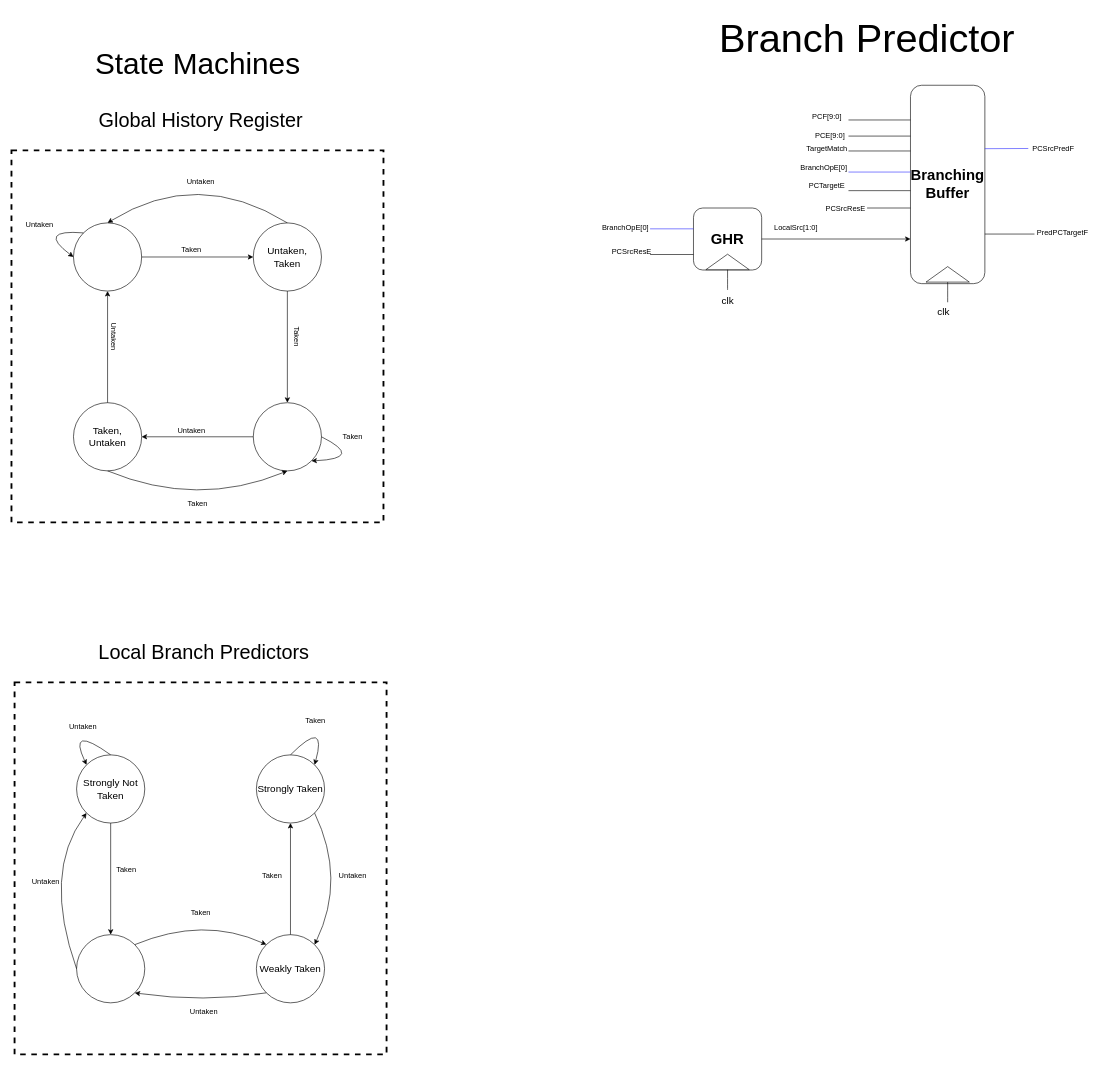
Some shapes in this 1107 by 1066 pixel diagram are drawn without their labels. The box of each missing label's shape, as (x1, y1, x2, y2) in pixels:
Taken, Taken: (253, 402, 321, 471)
Untaken, Untaken: (73, 222, 142, 291)
Weakly Not Taken: (76, 934, 145, 1003)
